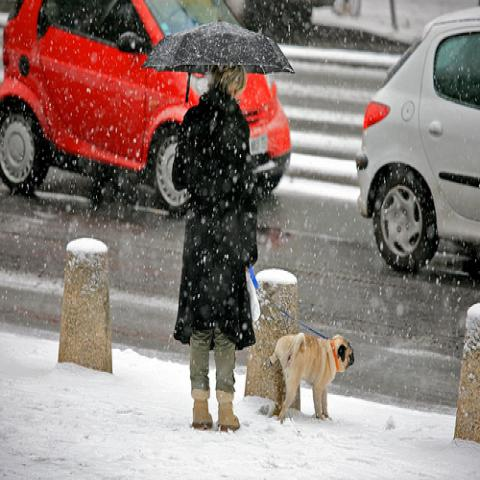car: (0, 2, 290, 211), (357, 19, 479, 268)
